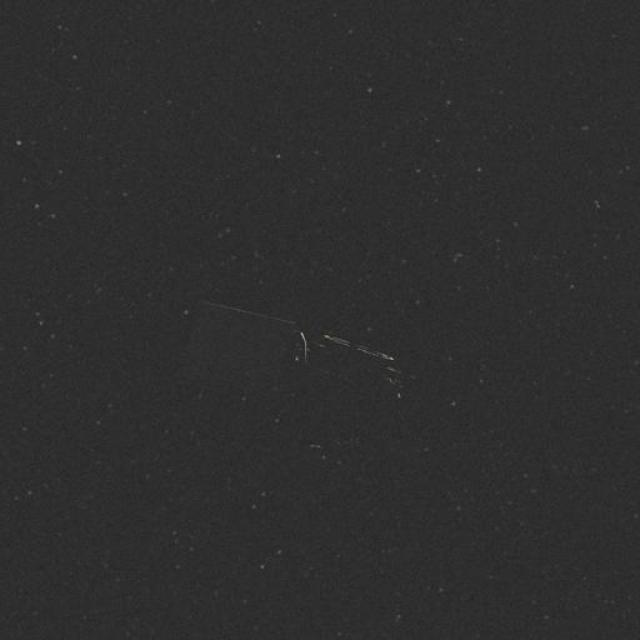earth_observation_sat_1: (165, 277, 422, 422)
